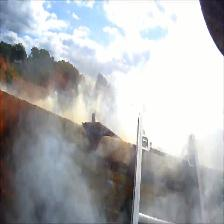smoke: (9, 130, 80, 222), (150, 160, 223, 220)
